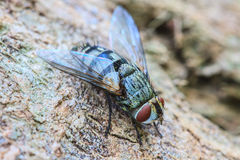green bottles fly: (34, 3, 180, 146)
